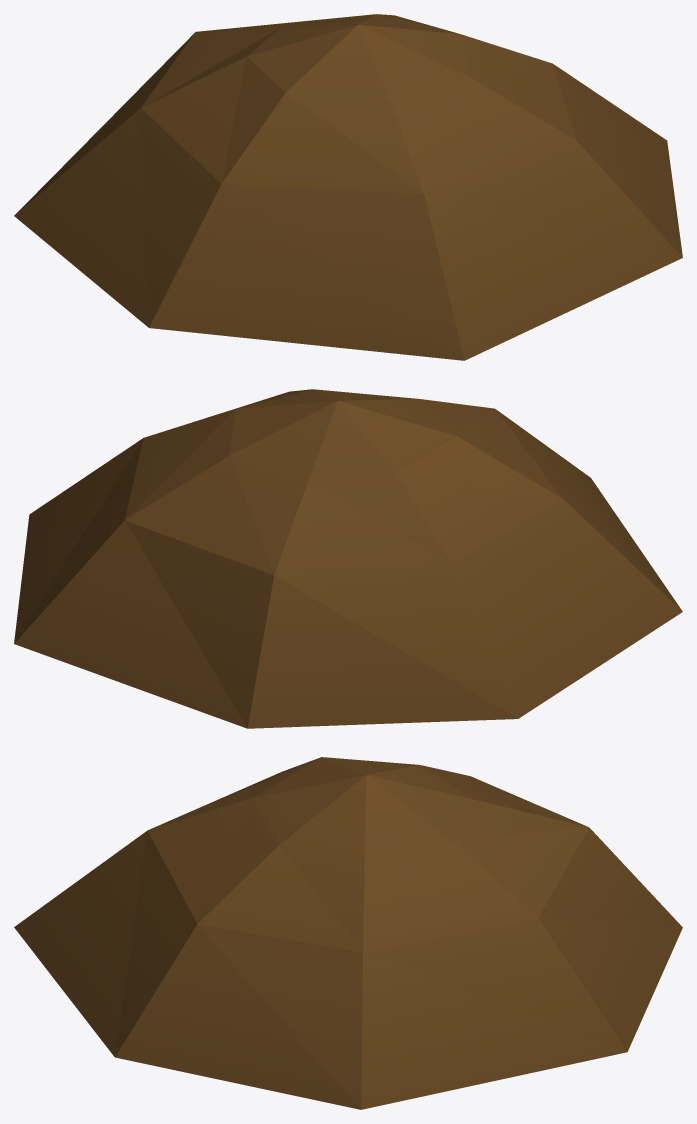
The model's file is hill_1.glb.
The picture shows the model from 3 angles, top to bottom: view 1: azimuth 30°, elevation 25°; view 2: azimuth 150°, elevation 25°; view 3: azimuth 270°, elevation 25°; orthographic projection. The views are drawn at different scales.
Bounding box in the file's own units: 1.79 × 0.5545 × 1.8.
